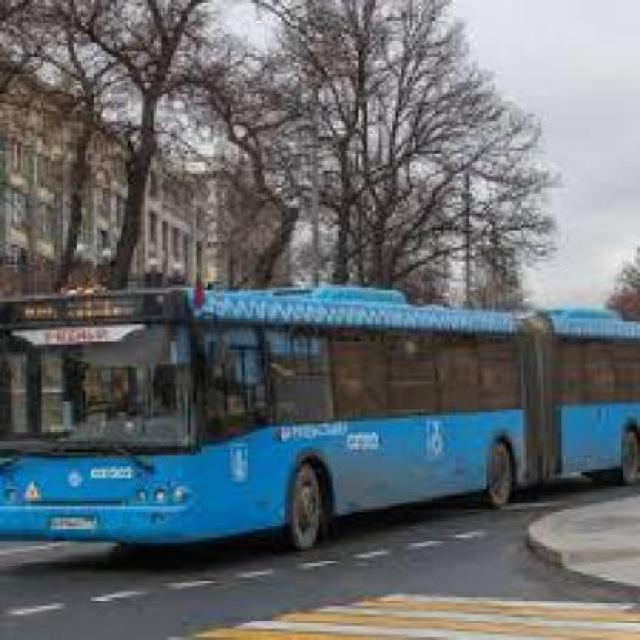bus: (0, 288, 640, 554)
